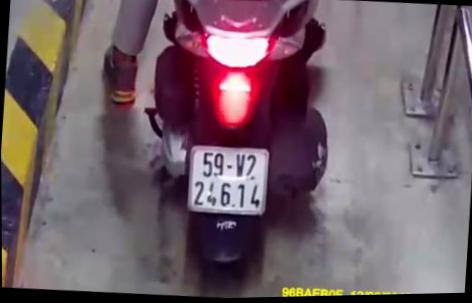LP: (186, 146, 268, 219)
